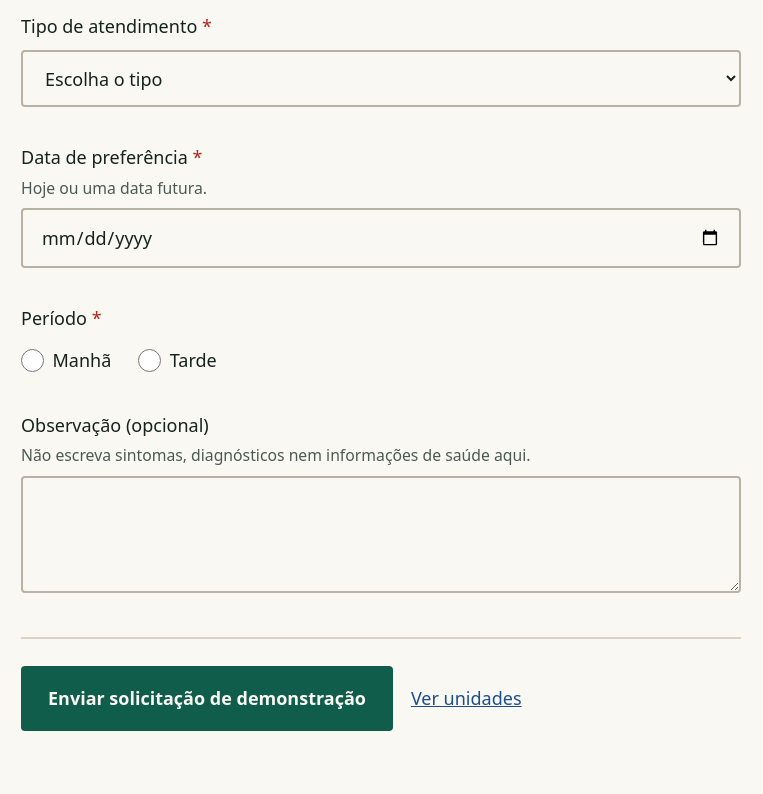
Test case: Agendamento — validação acessível (RF11) › liga o erro ao campo por aria-describedby e marca aria-invalid
This screenshot has width=763, height=794.
(page scrolled)
Click the button "Enviar solicitação de demonstração" at (207, 698), box 21,666 -> 393,731
(page scrolled)
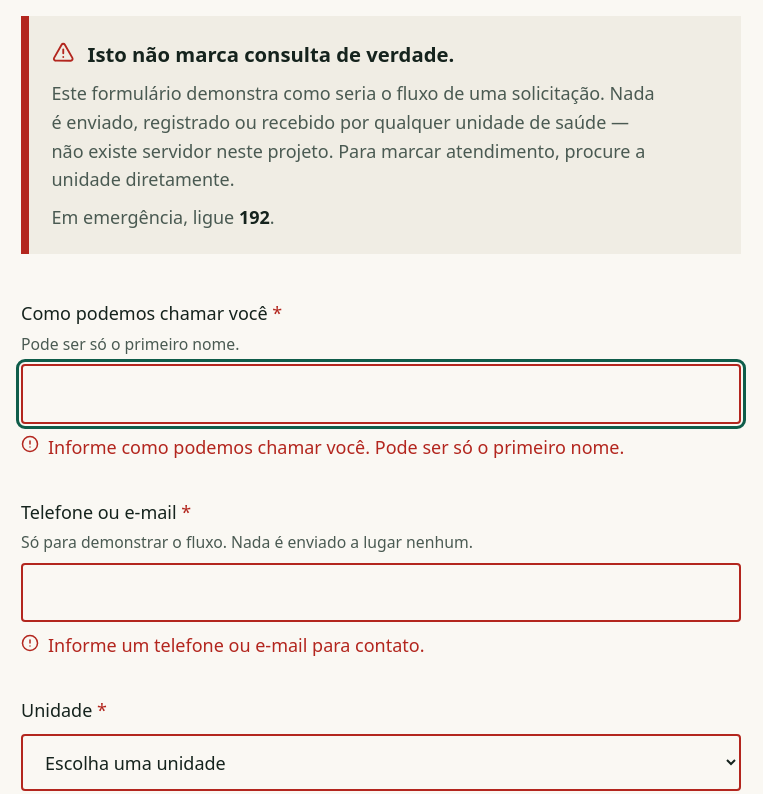
expect the element with id "nome-erro" is shown: met, box 21,435 -> 624,459
expect the element with id "nome-erro" shows "Informe como podemos chamar você": met, box 48,435 -> 624,459
